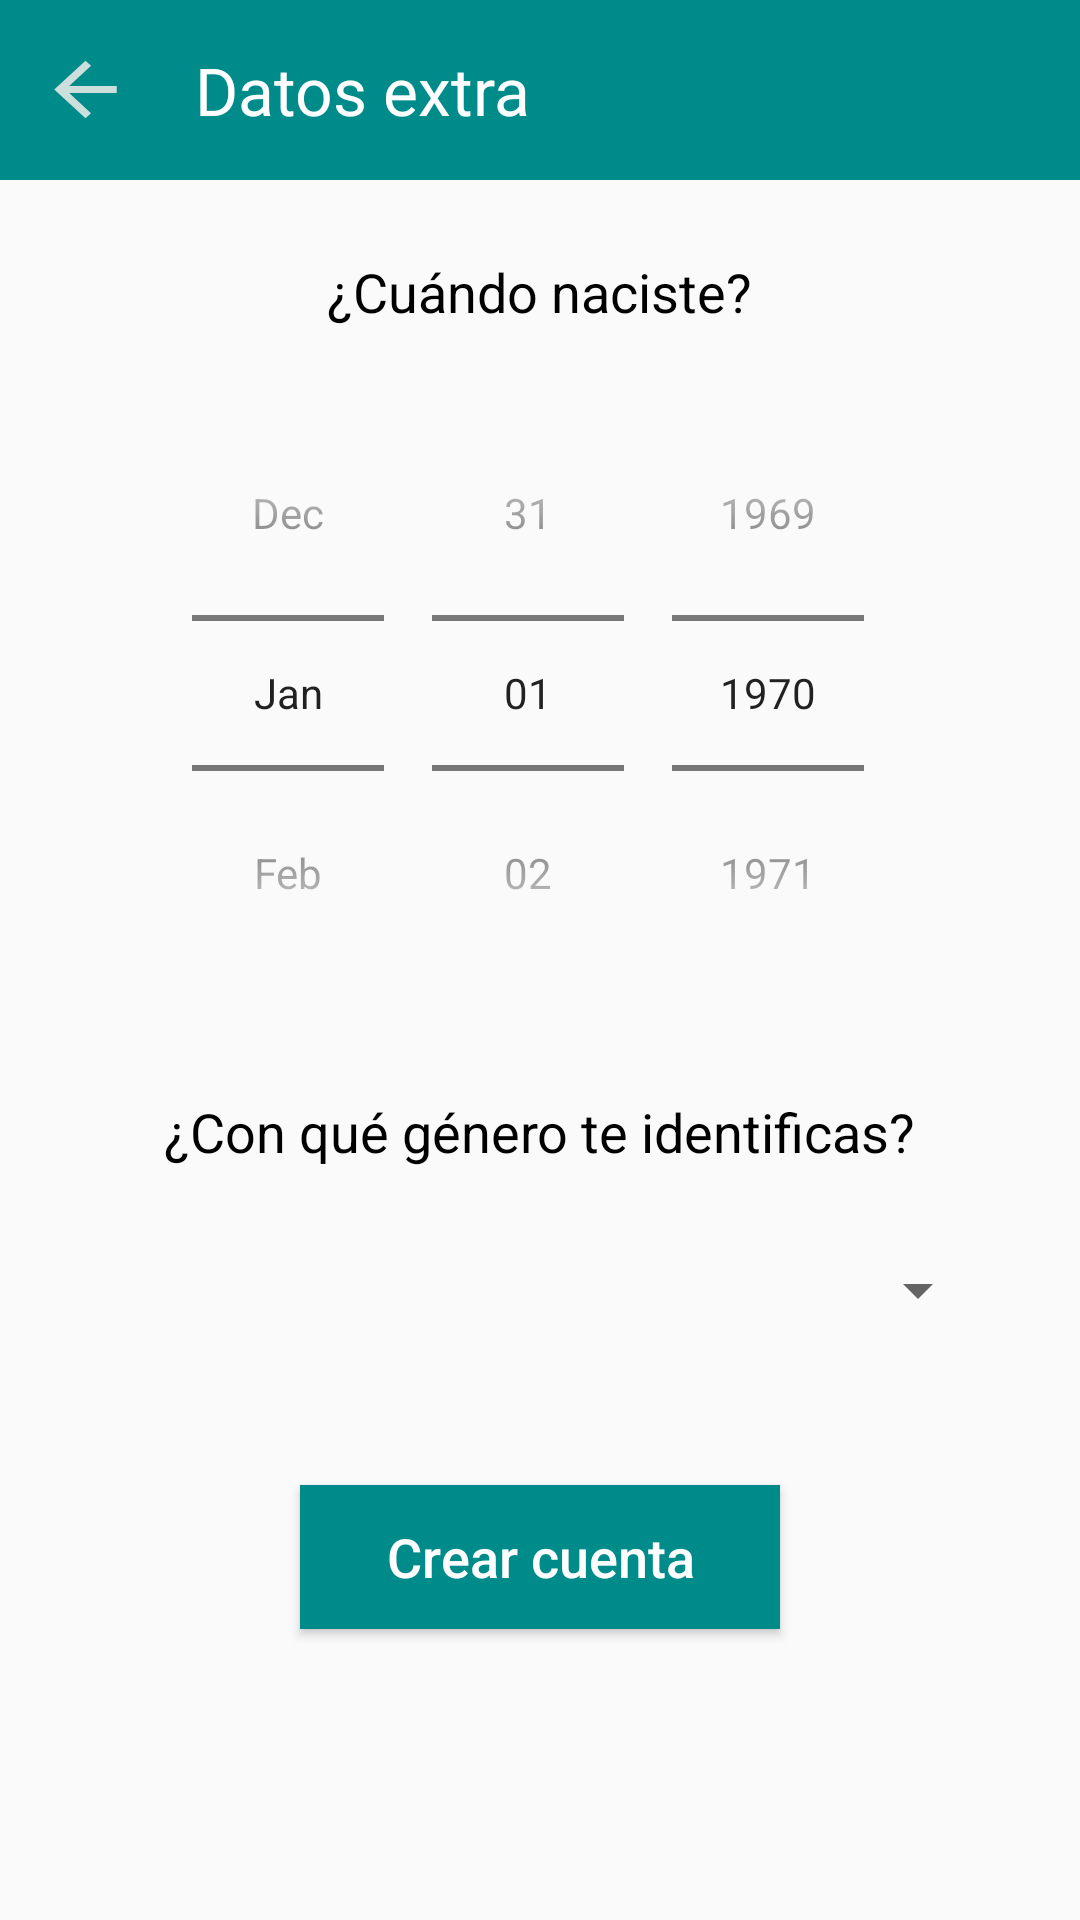

Screen size 1080px×1920px. Icon name, then its box in pixels as {"left": x1, "top": y1, "right": x2, "bottom": y2}:
arrow back: {"left": 54, "top": 61, "right": 117, "bottom": 118}
